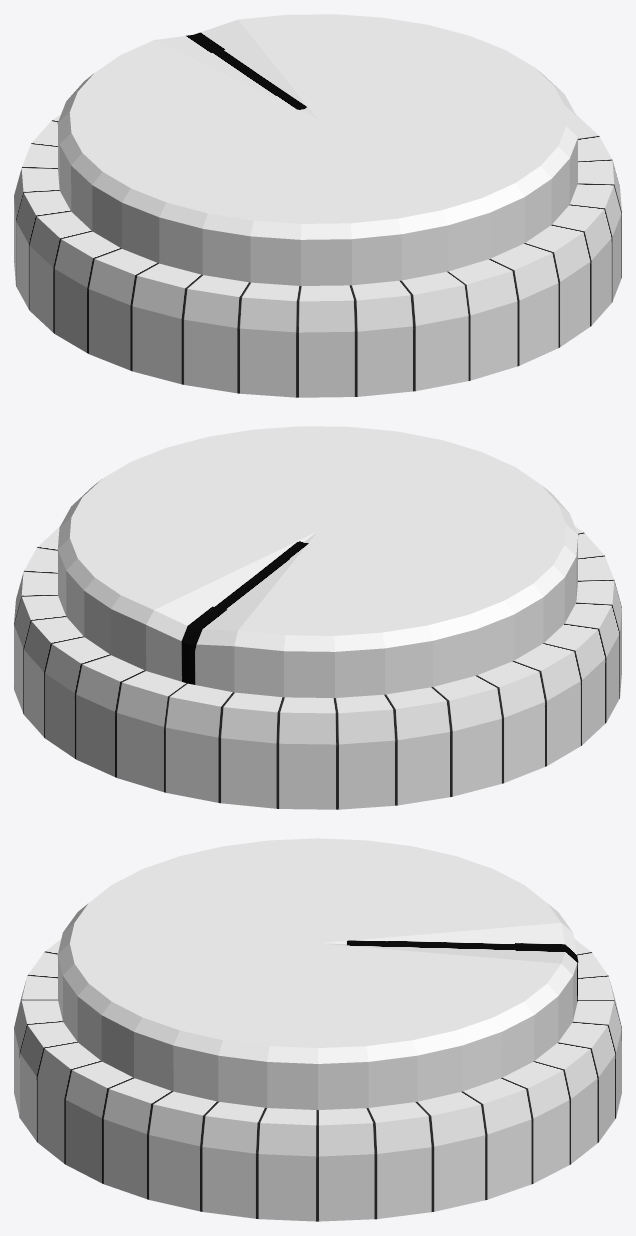
File: Knob_Model.fbx
3 views of the same model, one above another, from view 1: azimuth 30°, elevation 25°; view 2: azimuth 150°, elevation 25°; view 3: azimuth 270°, elevation 25° (orthographic).
Parts seen in each view (by area): view 1: Cylinder; view 2: Cylinder; view 3: Cylinder.
Part boxes in pixels (x1,y1,x2,y2): Cylinder: (14,14,621,397); Cylinder: (14,426,621,809); Cylinder: (14,838,621,1221).
Size of the model in its own units: 15 by 4.08 by 15.
Materials: 1 (1 with a texture image).
